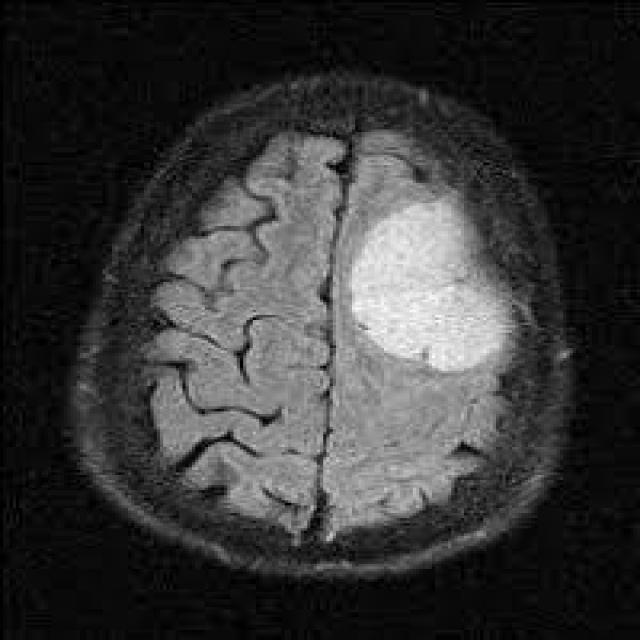Tumor: (352, 198, 515, 372)
